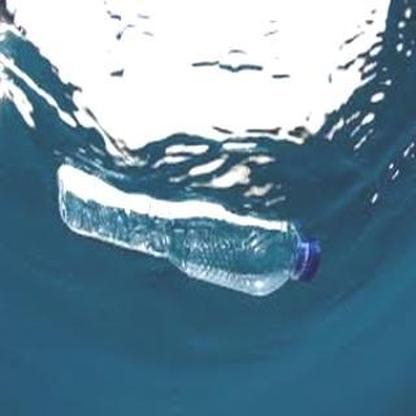plastic bottle: (57, 163, 320, 298)
